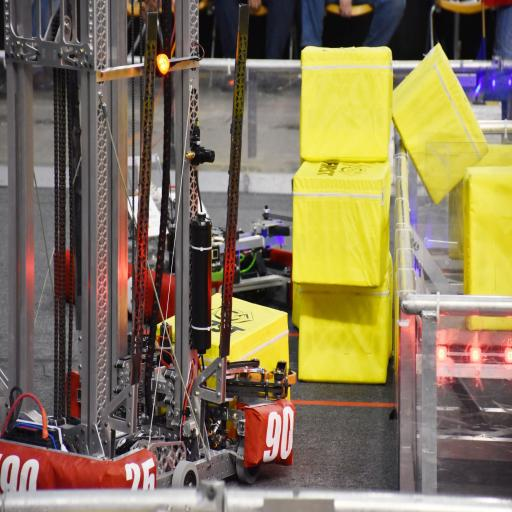robot: (1, 2, 298, 480)
